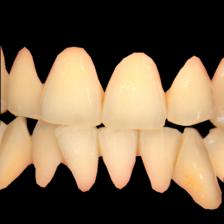cavity: (183, 177, 199, 193), (98, 86, 108, 110), (136, 130, 143, 157), (165, 90, 173, 111), (58, 149, 66, 164)
tooth: (103, 49, 165, 127), (48, 44, 102, 127), (179, 126, 221, 210), (166, 53, 211, 127), (8, 44, 44, 121), (56, 125, 98, 191), (99, 126, 141, 192), (141, 127, 179, 194), (31, 119, 60, 189), (4, 117, 30, 188)
